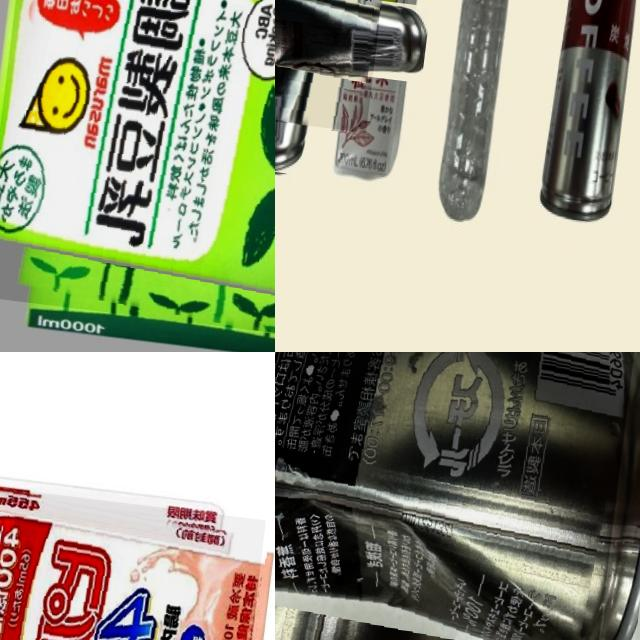Aluminium Foil: (0, 0, 275, 345), (0, 477, 265, 640), (331, 0, 426, 179)
Can: (275, 352, 640, 640), (532, 0, 640, 226), (275, 0, 388, 132)
Transparent Plastic Bottle: (431, 0, 524, 225)
